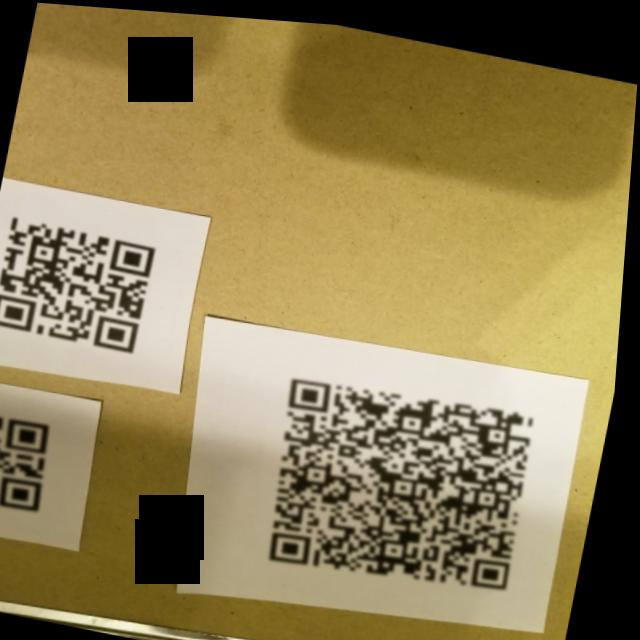QR_CODE: (252, 347, 561, 606), (0, 199, 173, 367), (0, 402, 73, 530)
